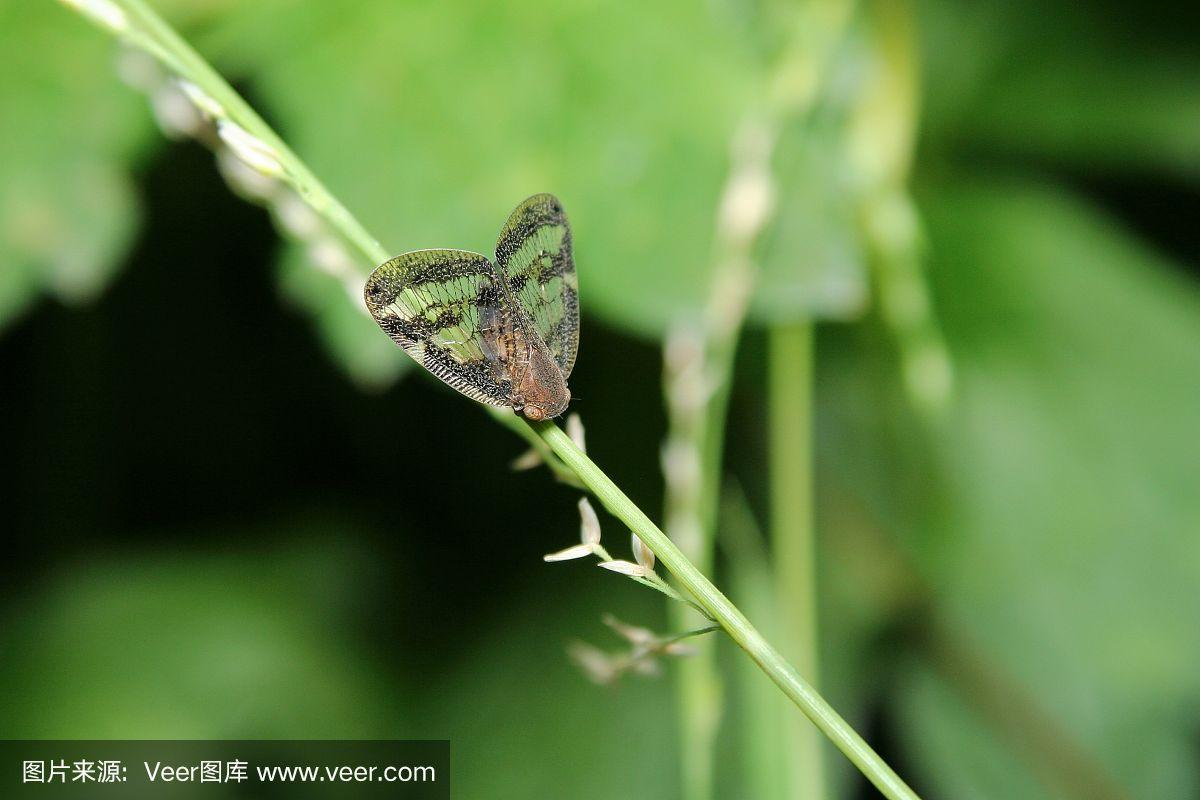Delphacidae: (364, 190, 580, 422)
